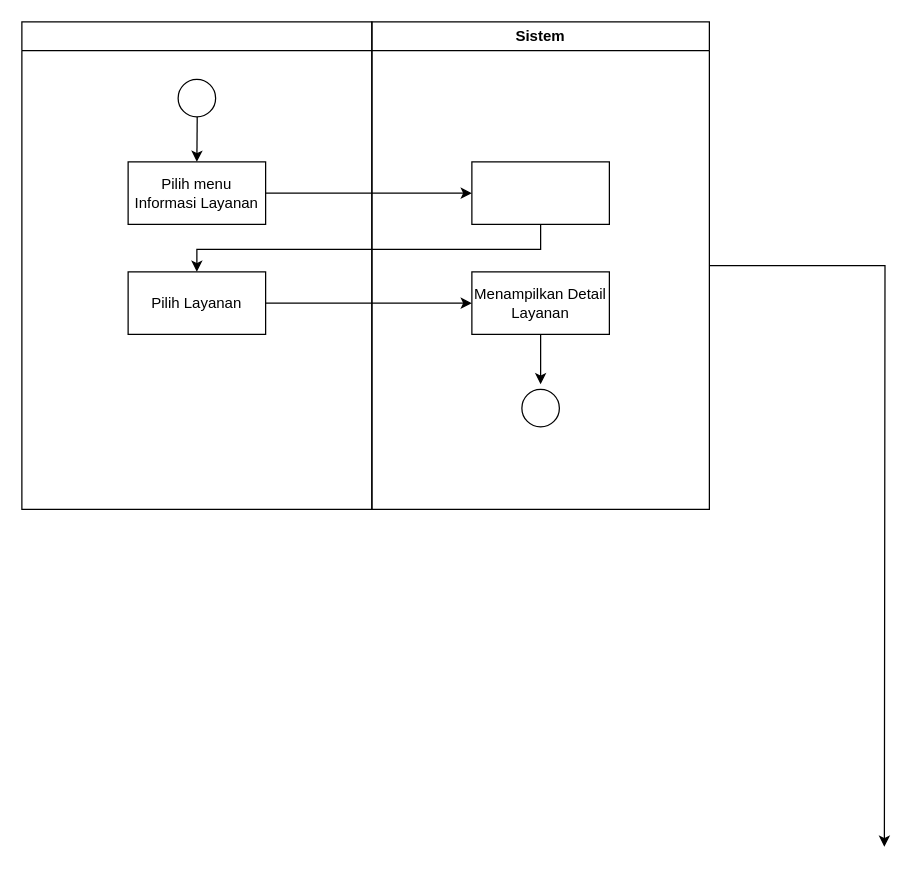
Some shapes in this 918 by 879 pixel diagram are drawn without their labels. Each missing label, with the box of its shape:
Menampilkan Informasi Layanan: (471, 161, 609, 224)
User: (21, 21, 372, 509)
